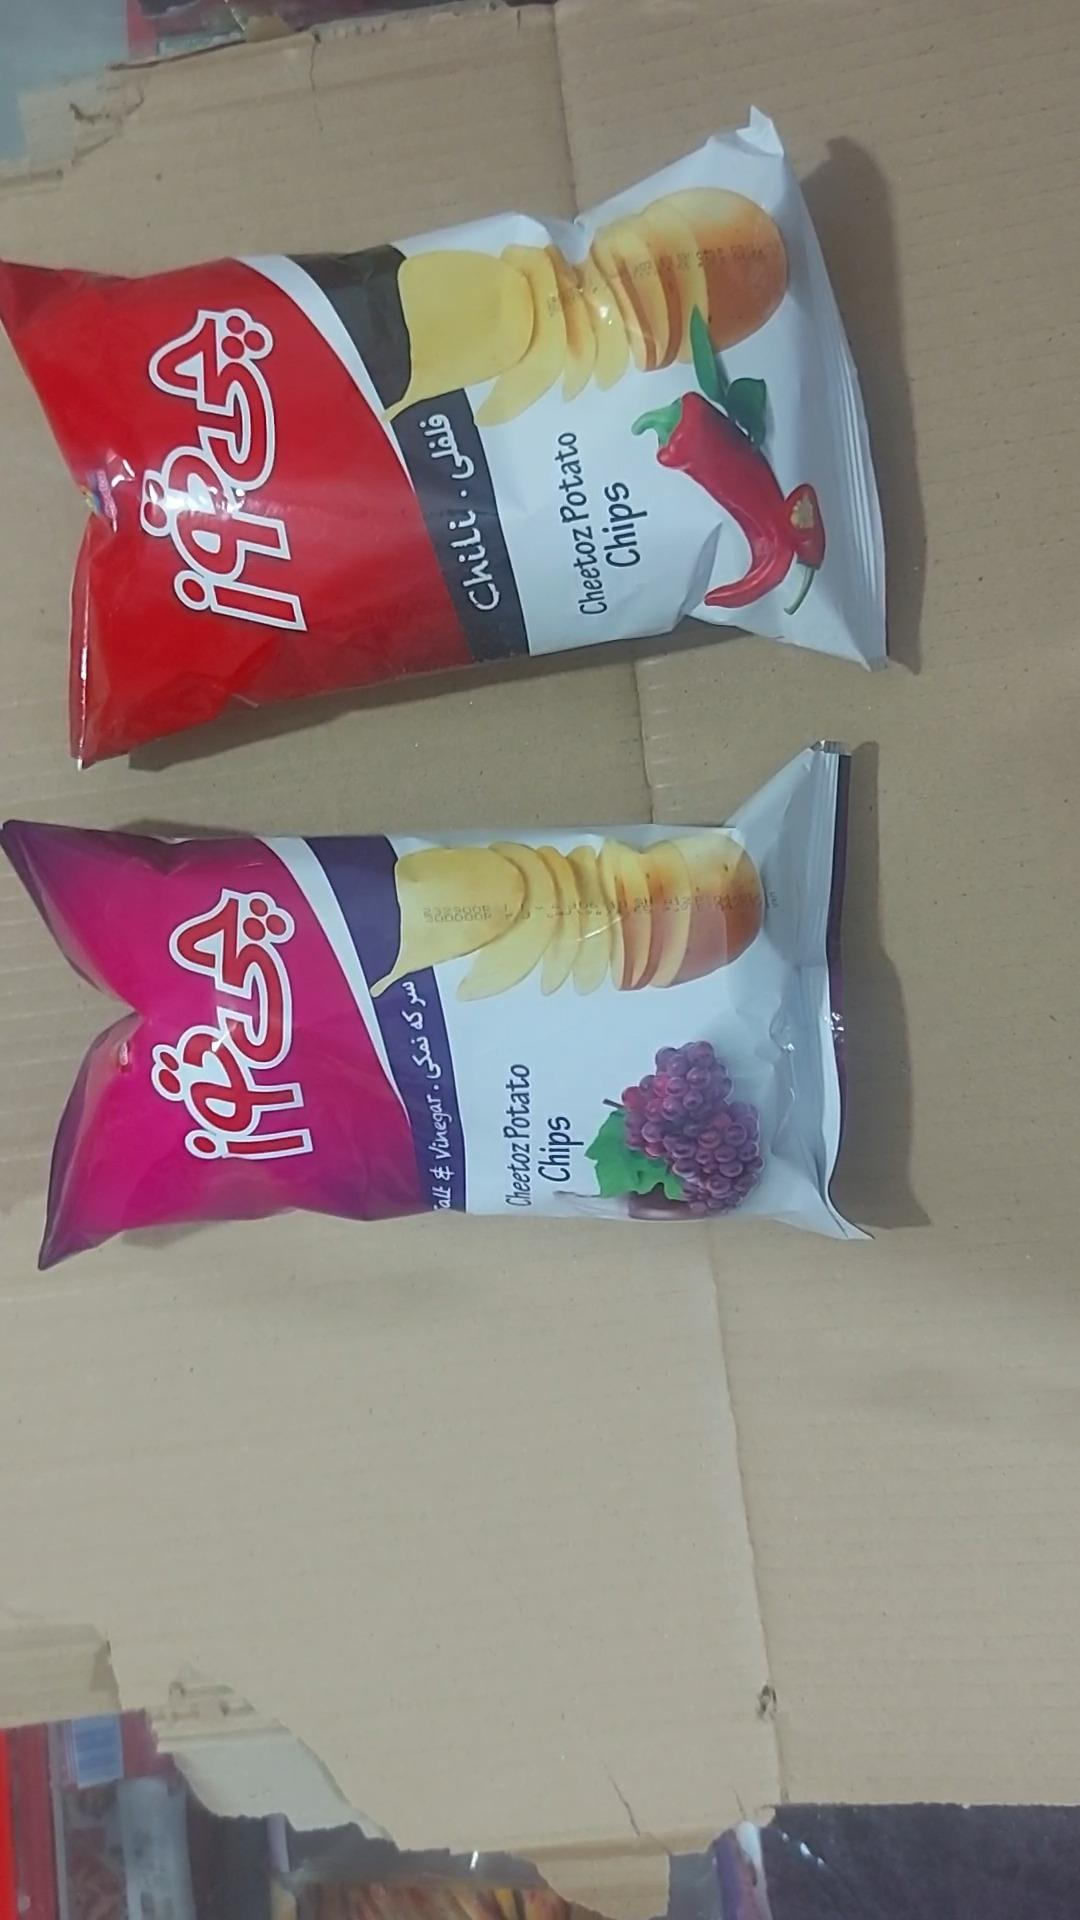Cheetoz chili chips: (0, 105, 887, 770)
Cheetoz vinegar chips: (0, 740, 872, 1273)
